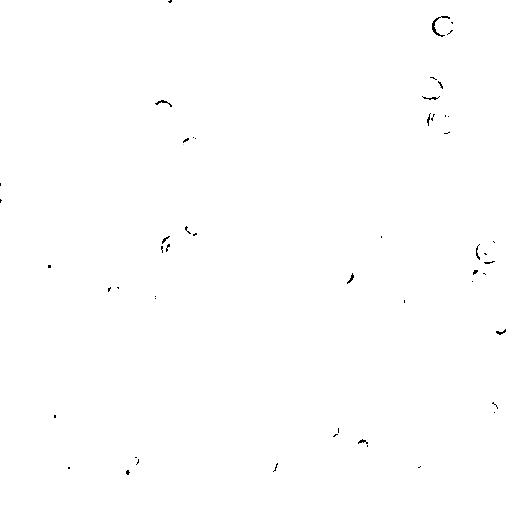micro-algae: (9, 35, 84, 110), (160, 371, 228, 441), (247, 452, 307, 511), (73, 247, 130, 301), (469, 54, 511, 97), (100, 477, 149, 511), (108, 453, 145, 488), (424, 105, 459, 138), (235, 26, 267, 59), (384, 283, 415, 313), (357, 368, 389, 397), (409, 459, 440, 486), (161, 235, 188, 263), (414, 74, 444, 99), (476, 236, 501, 265), (167, 41, 193, 67), (430, 12, 457, 37), (144, 240, 169, 267), (24, 417, 50, 442), (55, 453, 80, 479), (178, 135, 204, 159), (35, 253, 61, 277), (465, 267, 489, 293), (43, 405, 65, 433), (428, 226, 451, 250), (121, 450, 143, 473), (153, 99, 177, 120), (257, 455, 279, 477), (243, 416, 266, 437), (179, 372, 201, 393), (455, 286, 477, 307), (333, 266, 354, 287), (339, 500, 373, 511), (482, 399, 501, 418), (489, 317, 509, 335), (139, 289, 158, 307), (379, 229, 397, 248), (39, 114, 56, 134), (323, 421, 342, 438), (353, 437, 371, 454), (183, 218, 200, 235), (106, 283, 122, 299), (1, 182, 13, 203), (89, 265, 103, 281), (400, 231, 413, 248), (397, 0, 413, 6), (158, 1, 174, 6)
